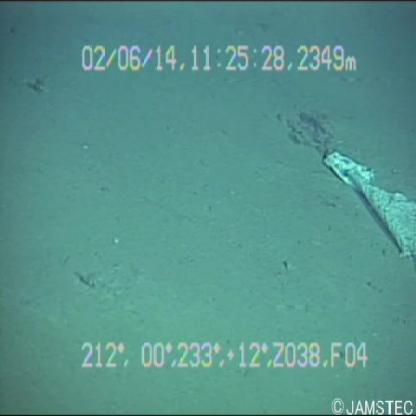Rác: (308, 145, 416, 273)
